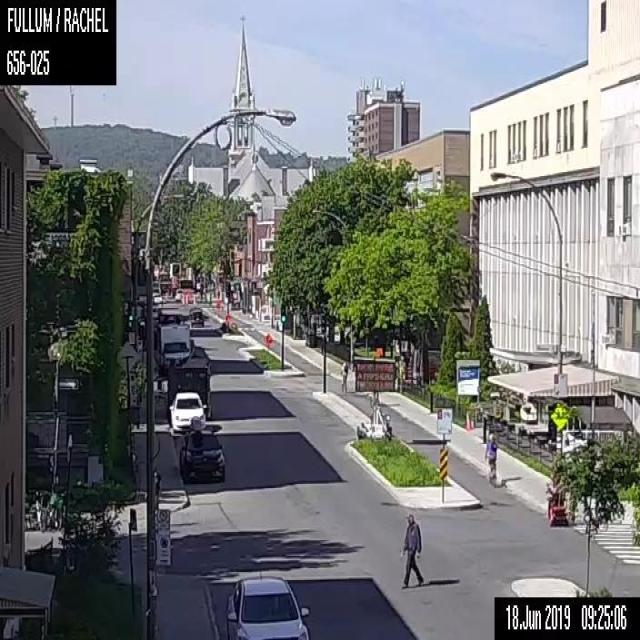construction: (356, 357, 395, 439), (263, 332, 272, 345), (214, 299, 221, 308), (224, 312, 230, 321), (192, 294, 195, 304), (185, 294, 188, 304), (182, 293, 184, 304)
cyclist: (484, 432, 497, 487)
pedestrian: (399, 513, 423, 588), (154, 467, 162, 509), (340, 360, 348, 393)
vehicle: (223, 574, 310, 638), (179, 414, 224, 482), (168, 392, 206, 432), (160, 324, 188, 365), (546, 484, 568, 526), (181, 346, 209, 372), (189, 308, 204, 326), (174, 288, 182, 301), (152, 292, 161, 302)
